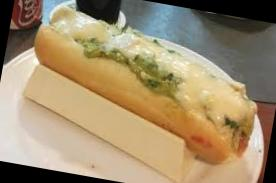Completos: (9, 0, 273, 171)
